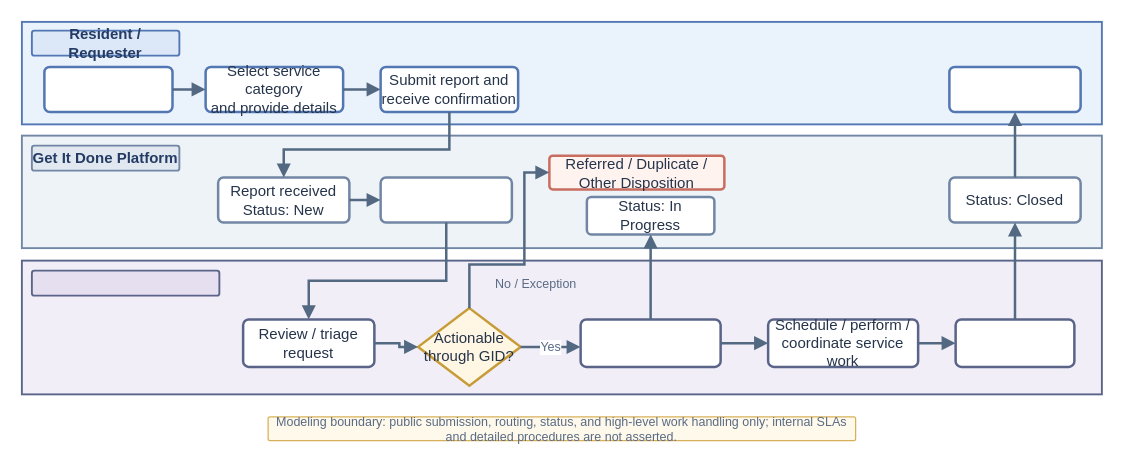
Image size: 1125x466. Some labels were removed from this diagram. Here are the shapes that lost their labels. From the top down, the centre of each, then its label:
At (x=107, y=88): "Identify a non-emergency service issue".
At (x=1014, y=88): "Check status / closure information".
At (x=445, y=199): "Route to staff / service area".
At (x=125, y=282): "City Service / Operations Team".
At (x=650, y=343): "Create / associate work order".
At (x=1014, y=343): "Close work order / record outcome".
